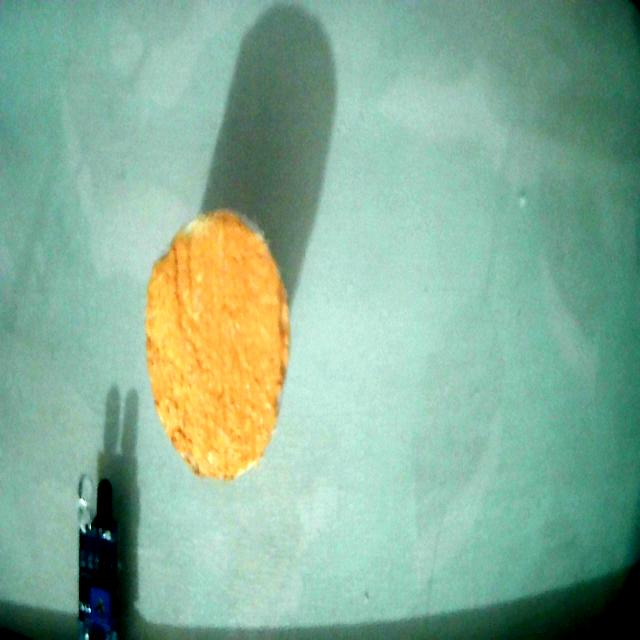yellow: (146, 211, 289, 478)
